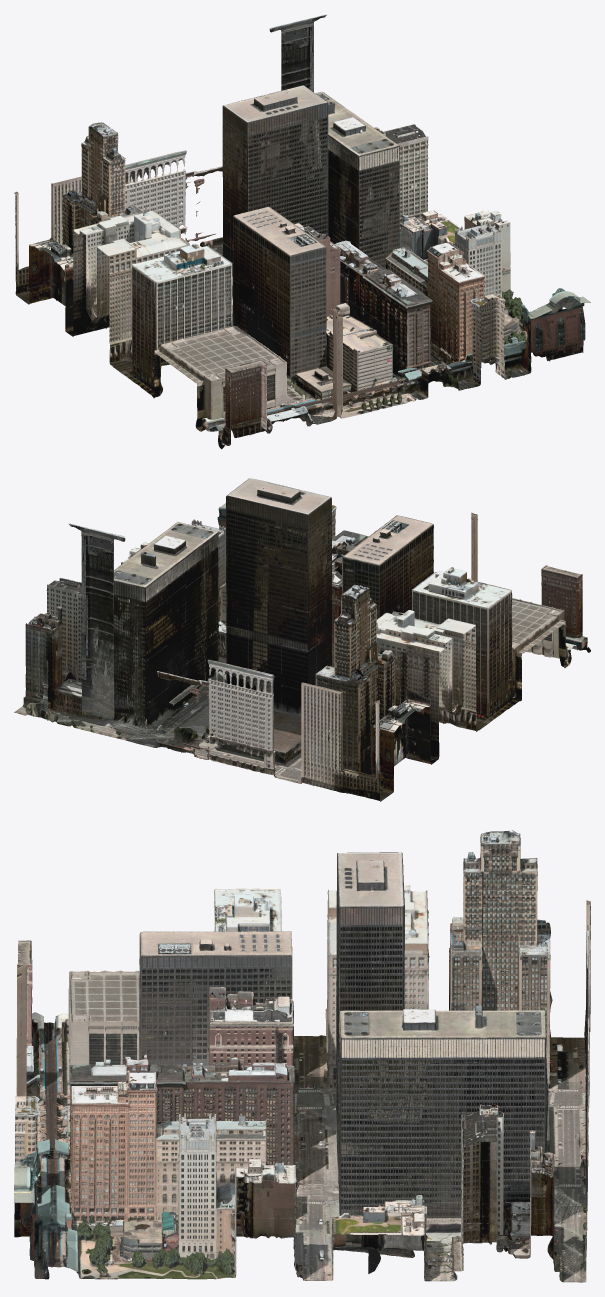
The picture shows the model from 3 angles, top to bottom: view 1: azimuth 30°, elevation 25°; view 2: azimuth 150°, elevation 25°; view 3: azimuth 270°, elevation 25°; orthographic projection. The views are drawn at different scales.
Parts seen in each view (by area): view 1: chicago_usa_sample_5, chicago_usa_sample_3, chicago_usa_sample_4, chicago_usa_sample_2, chicago_usa_sample_1; view 2: chicago_usa_sample_1, chicago_usa_sample_2, chicago_usa_sample_3, chicago_usa_sample_4, chicago_usa_sample_5; view 3: chicago_usa_sample_5, chicago_usa_sample_2, chicago_usa_sample_4, chicago_usa_sample_3, chicago_usa_sample_1.
Boxes of the visible parts, x1,y1,x2,y2 form: chicago_usa_sample_5: [184, 238, 590, 449]; chicago_usa_sample_3: [108, 91, 490, 390]; chicago_usa_sample_4: [146, 210, 528, 398]; chicago_usa_sample_2: [71, 85, 457, 336]; chicago_usa_sample_1: [14, 14, 419, 334]; chicago_usa_sample_1: [14, 523, 436, 801]; chicago_usa_sample_2: [53, 489, 474, 760]; chicago_usa_sample_3: [121, 478, 513, 731]; chicago_usa_sample_4: [130, 519, 552, 704]; chicago_usa_sample_5: [217, 503, 590, 667]; chicago_usa_sample_5: [14, 931, 173, 1279]; chicago_usa_sample_2: [330, 832, 486, 1281]; chicago_usa_sample_4: [121, 888, 278, 1279]; chicago_usa_sample_3: [226, 852, 381, 1280]; chicago_usa_sample_1: [449, 830, 590, 1282].
Bounding box in the file's own units: 3.17 × 1.77 × 3.14.
Materials: 5 (5 with a texture image).
